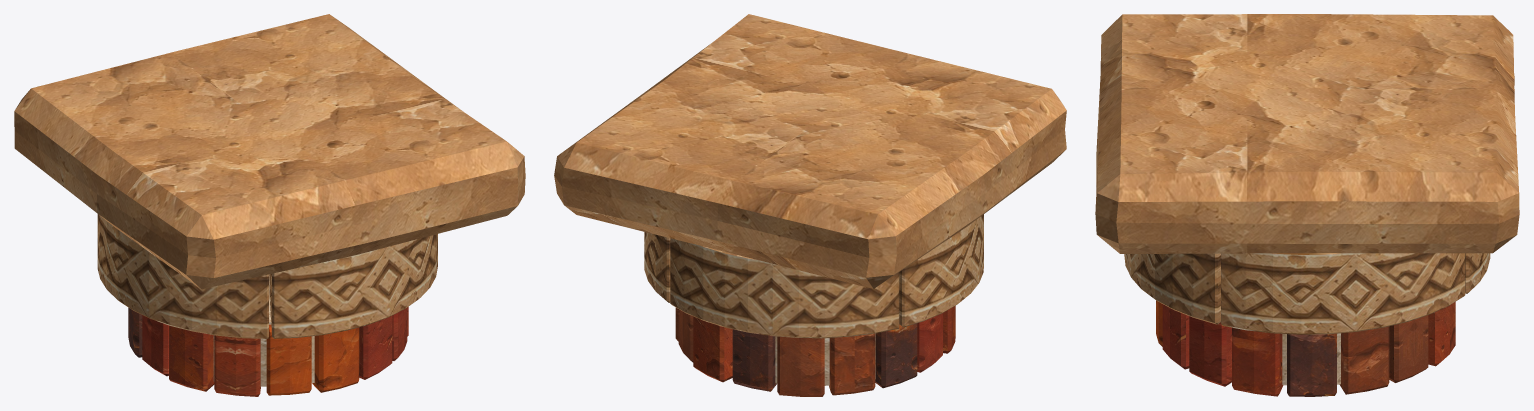
File: column_capital__clay_brick.glb
3 views of the same model, side by side, from view 1: azimuth 30°, elevation 25°; view 2: azimuth 150°, elevation 25°; view 3: azimuth 270°, elevation 25° (orthographic). The views are drawn at different scales.
Visible parts, largest first — view 1: model; view 2: model; view 3: model.
Part boxes in pixels (x1=…): model: x1=14, y1=14, x2=525, y2=396; model: x1=554, y1=14, x2=1066, y2=396; model: x1=1095, y1=14, x2=1519, y2=396.
Bounding box in the file's own units: 0.7783 × 0.487 × 0.7761.
Materials: 9 (9 with a texture image).
